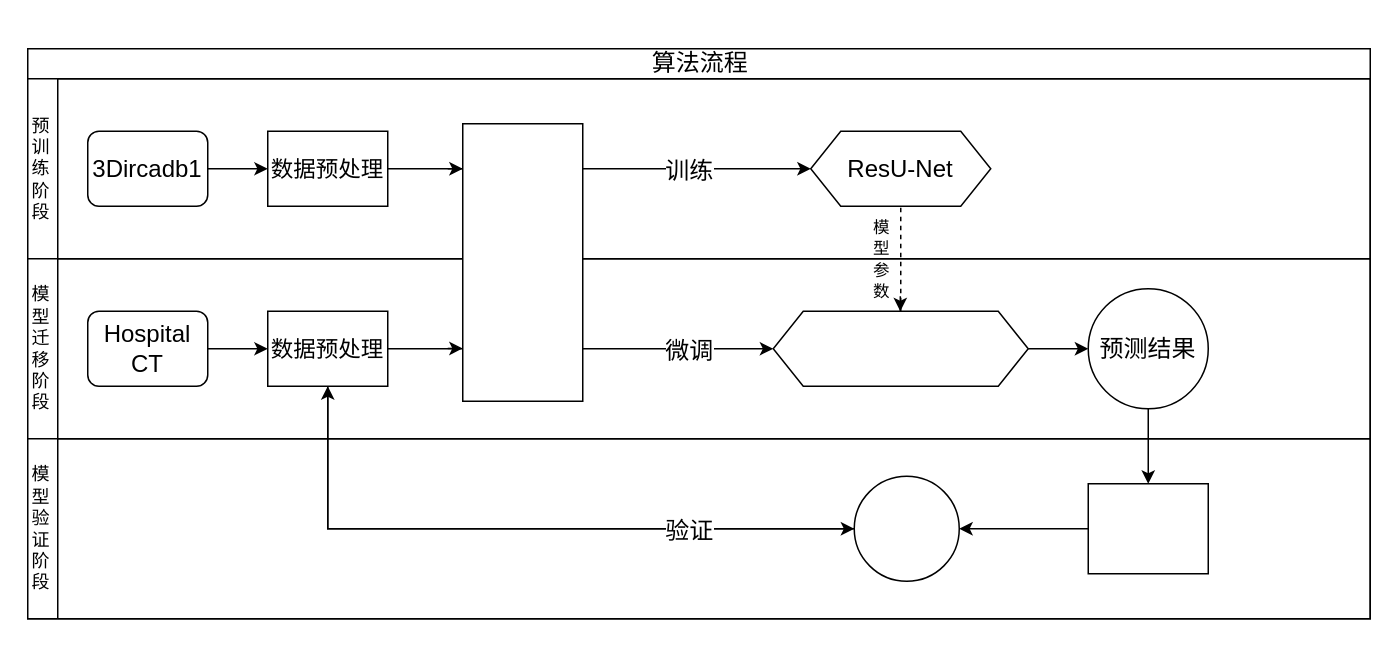
Image size: 1397x645. Some labels were removed from this diagram. The shapes that lost their labels are listed below. From the top down, each one's box as (x1, y1, x2, y2) in pixels, then its label:
(461, 122, 583, 401): 数 据 增 强
(772, 310, 1028, 386): ResU-Net + DnCNN
(853, 475, 959, 581): 最终结果
(1087, 482, 1208, 574): 后处理
